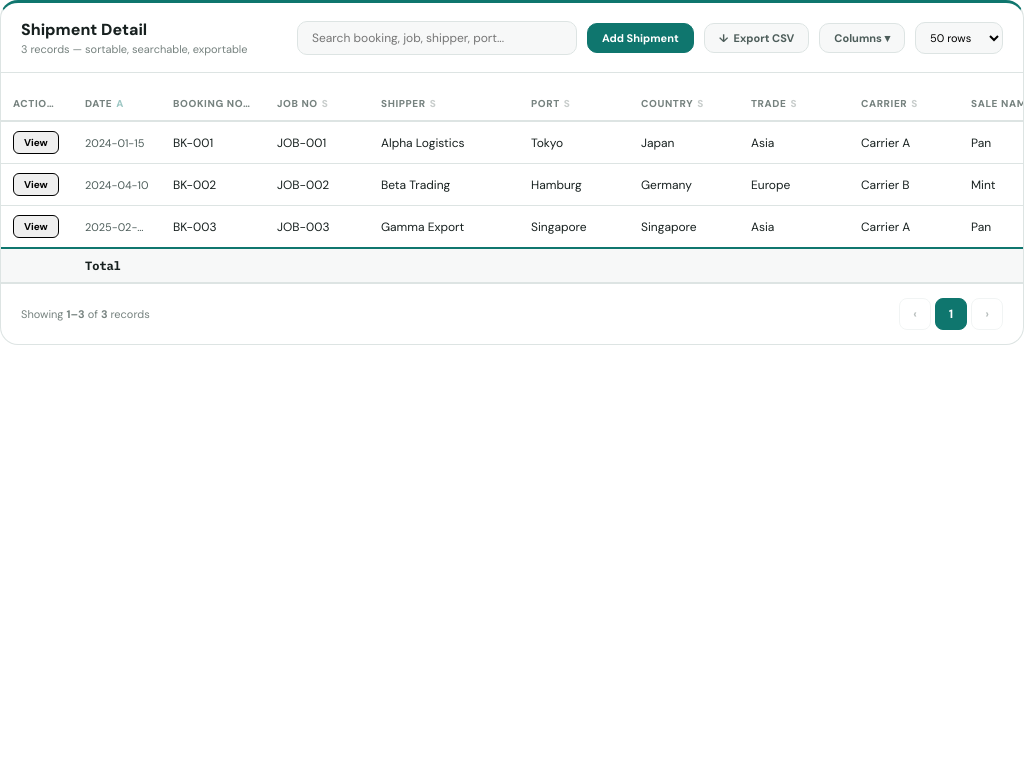
Test: ShipmentsPage › keeps the add shipment form inline instead of opening a dialog
Click the button "Add Shipment" at (640, 38), box left=587, top=22, right=694, bottom=52
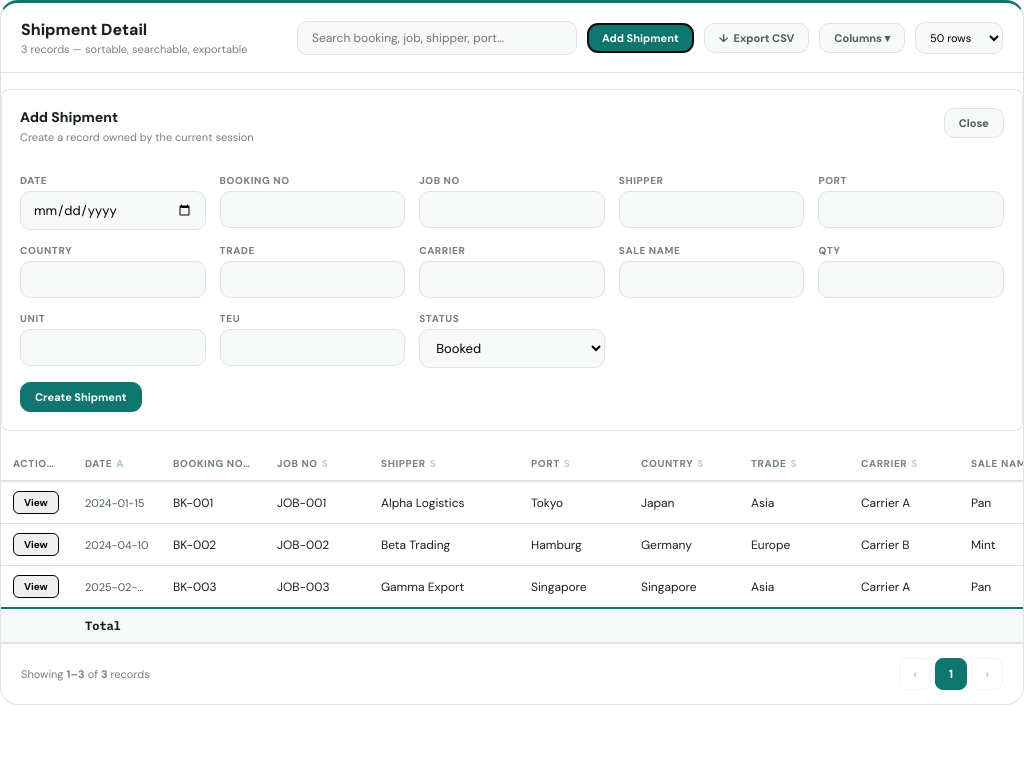
Result: the button "Create Shipment" is shown at left=20, top=382, right=142, bottom=412
